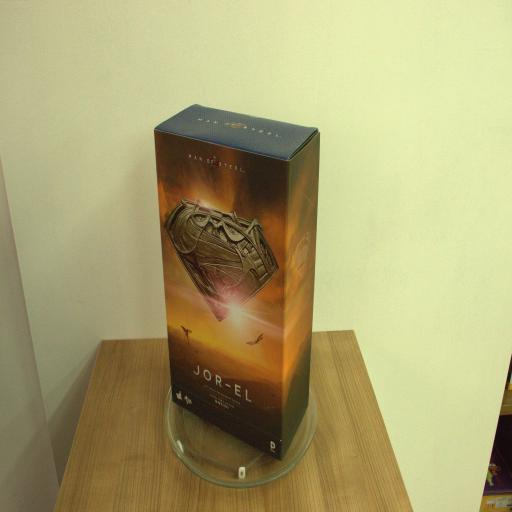superman: (154, 104, 320, 460)
